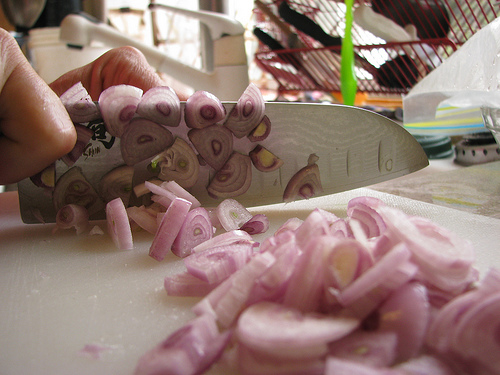onion: (28, 82, 499, 374), (105, 194, 137, 251)
